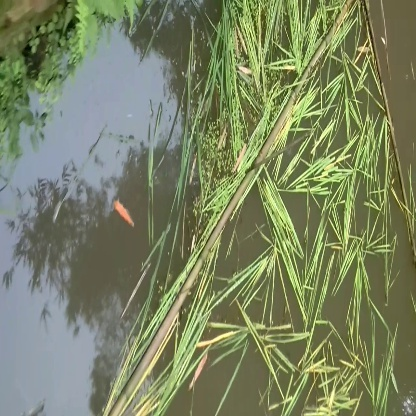grass: (264, 183, 373, 308)
